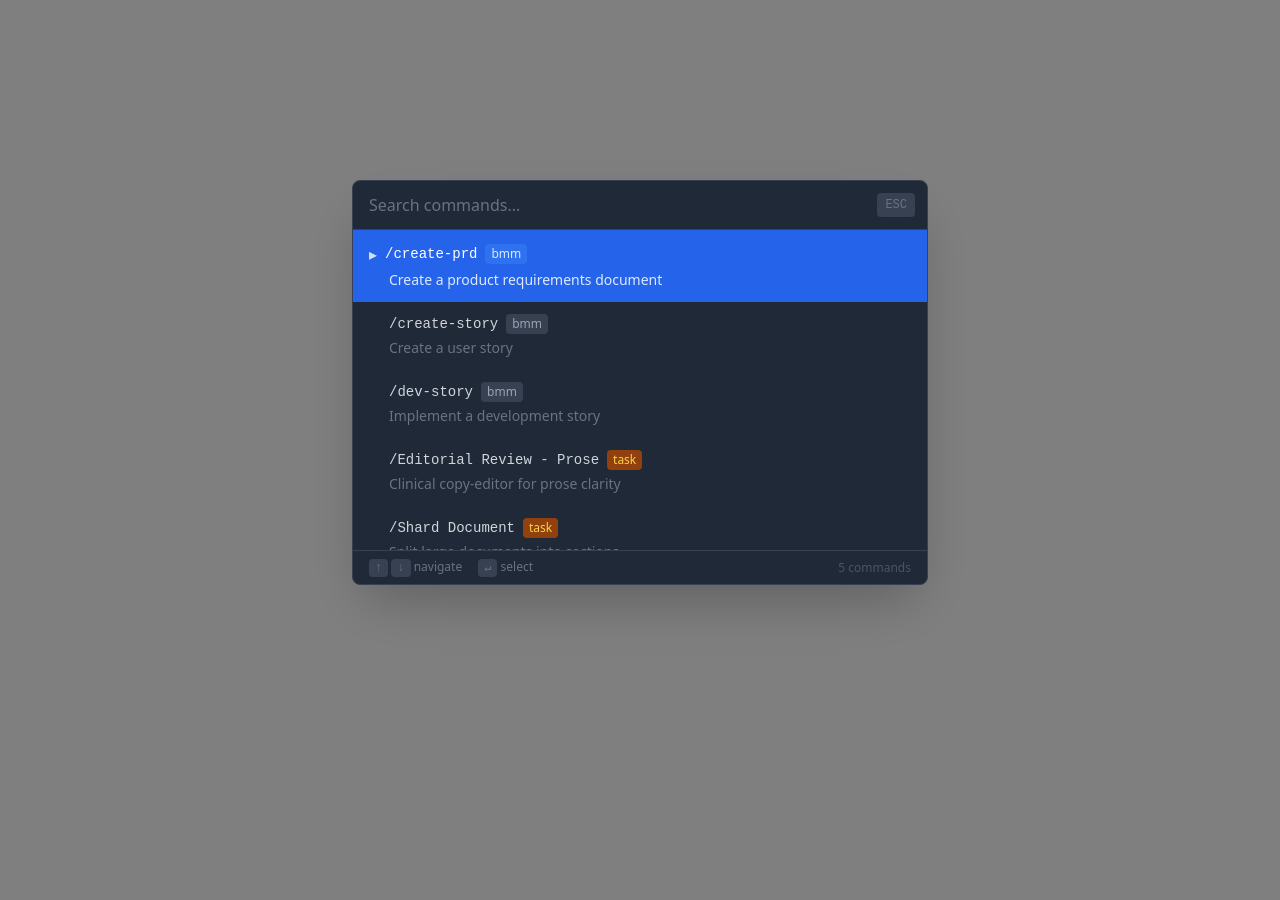
it: CommandPalette › edge case states › shows empty state when search has no matches
This screenshot has width=1280, height=900.
Expected: the text "/create-prd" is shown, 385,244 -> 477,264
Type "zzzzzzz" into the field with placeholder "Search commands..." at {"x": 640, "y": 205}, box 353,181 -> 927,229
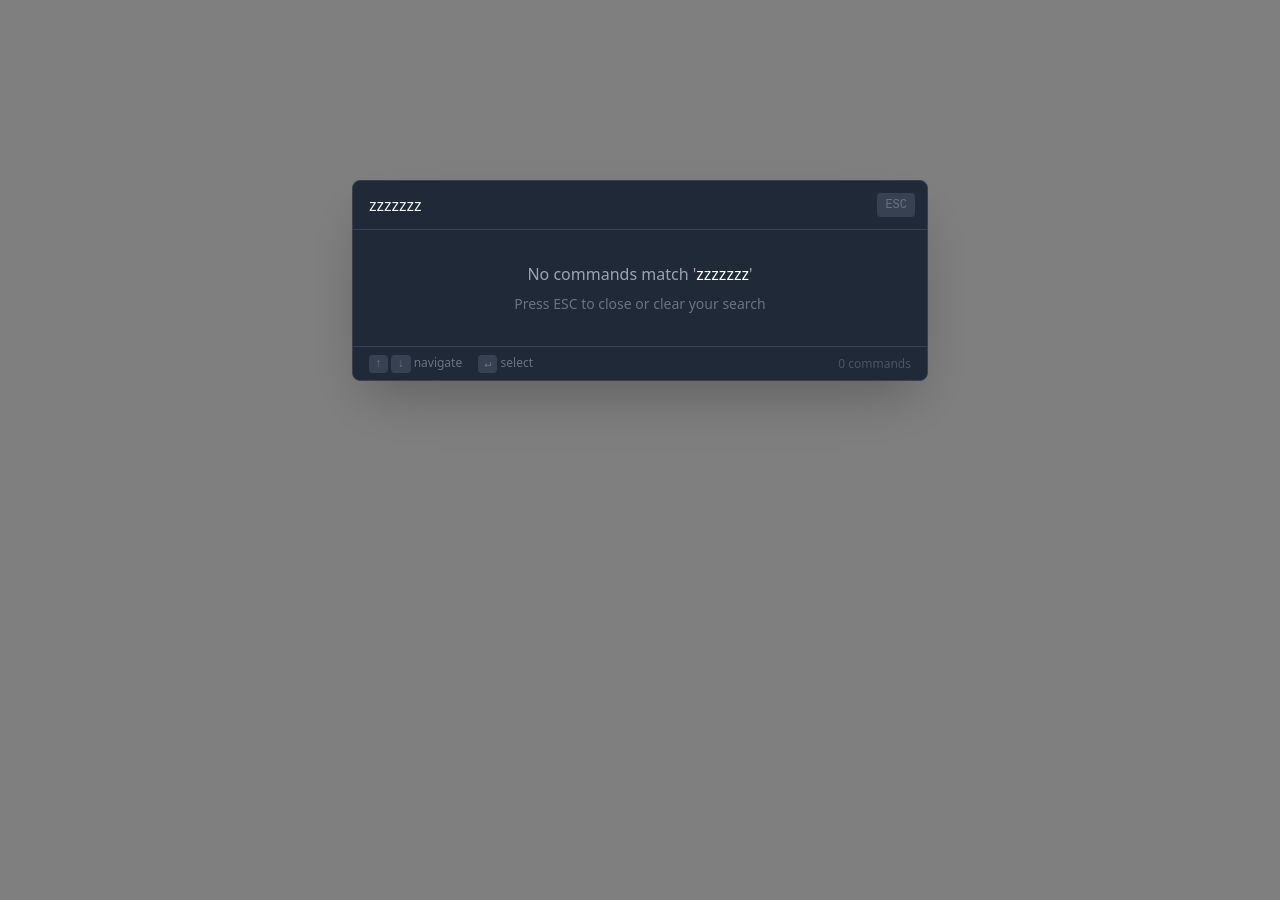
Expected: the text "No commands match 'zzzzzzz'" is shown, 527,263 -> 752,285
